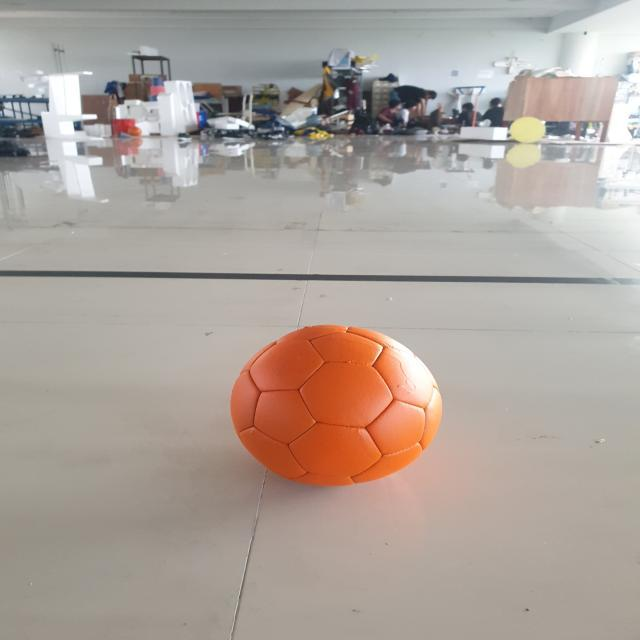bola: (192, 314, 475, 500)
